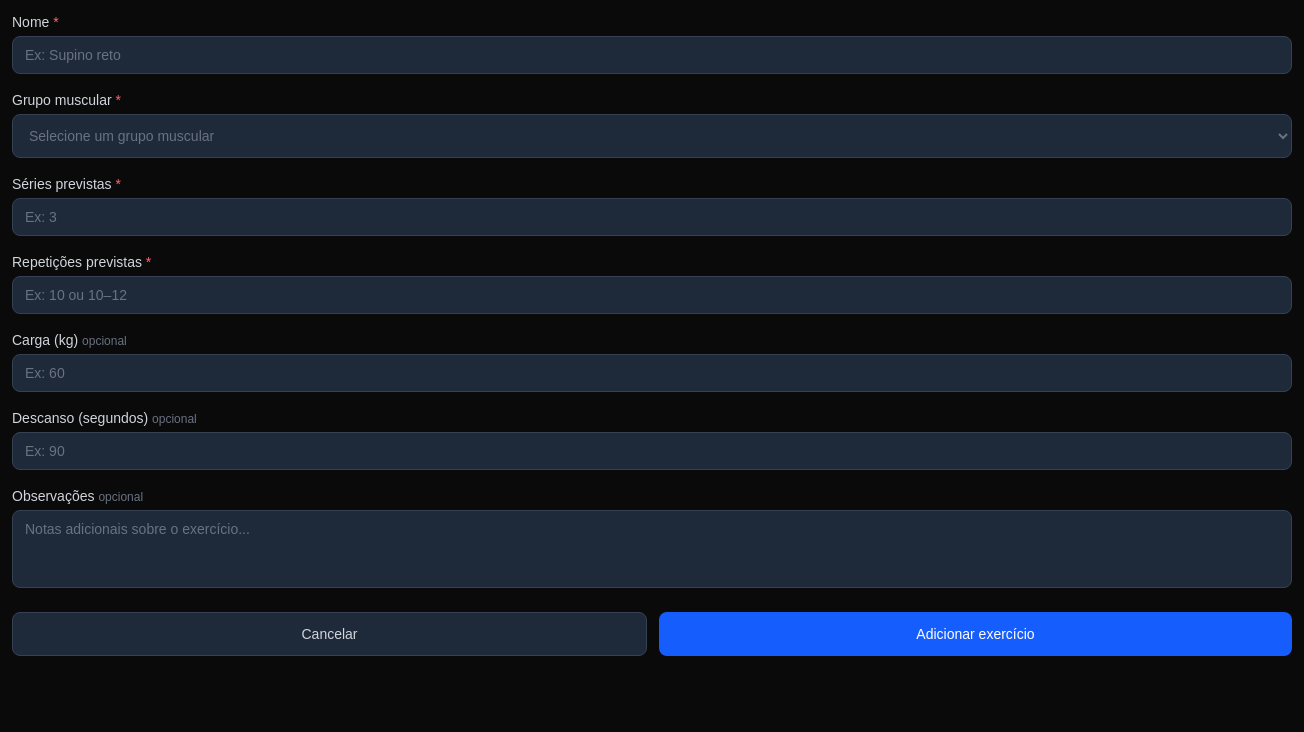
it: ExerciseForm › shows inline error for name field when validator returns name error
Click the button "Adicionar exercício" at (976,634), box [659, 612, 1292, 656]
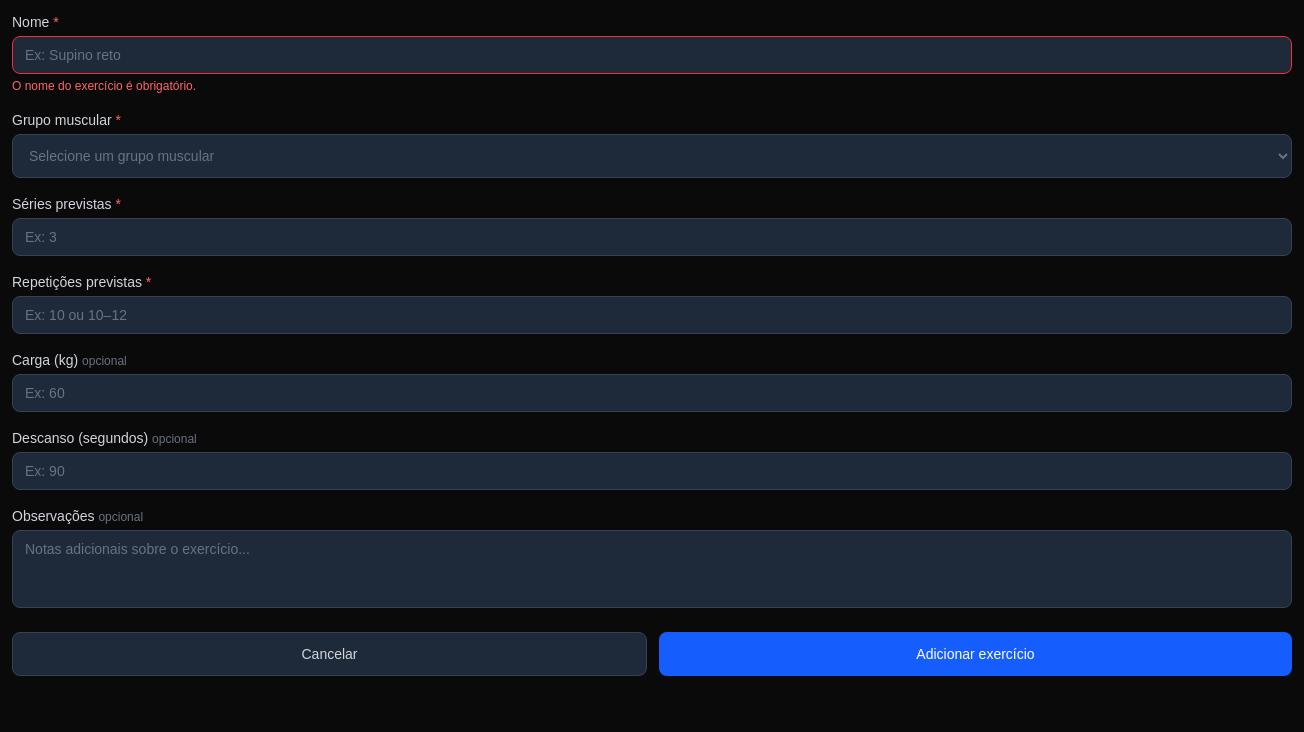
Result: the text "O nome do exercício é obrigatório." is shown at [12, 79, 196, 93]
